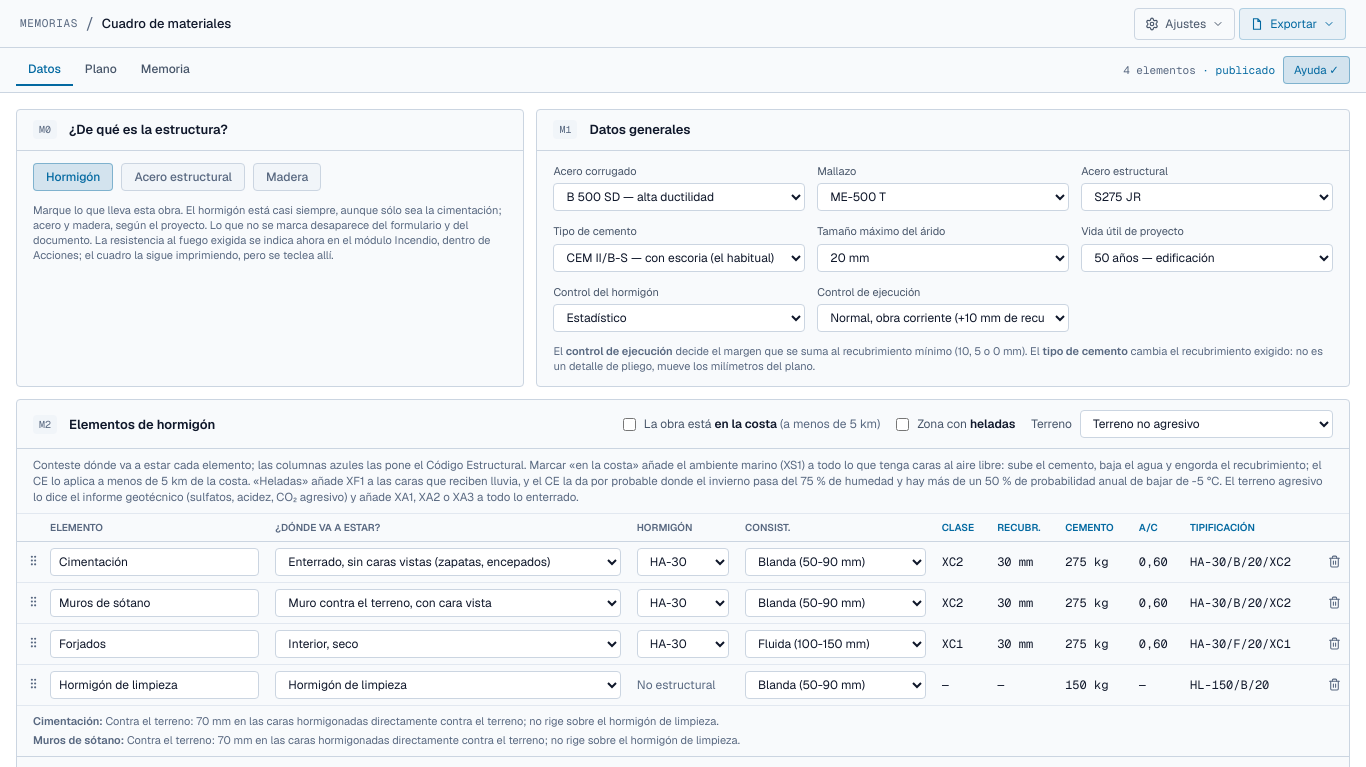
cambiar la respuesta mueve los derivados › pasar los forjados al exterior sube la clase, el cemento y el recubrimiento
This screenshot has width=1366, height=767.
Select "Exterior, a la lluvia" in the dropdown named "Dónde va a estar" in the row of "HA-30/F/20/XC1": [448, 644] box [275, 630, 621, 658]
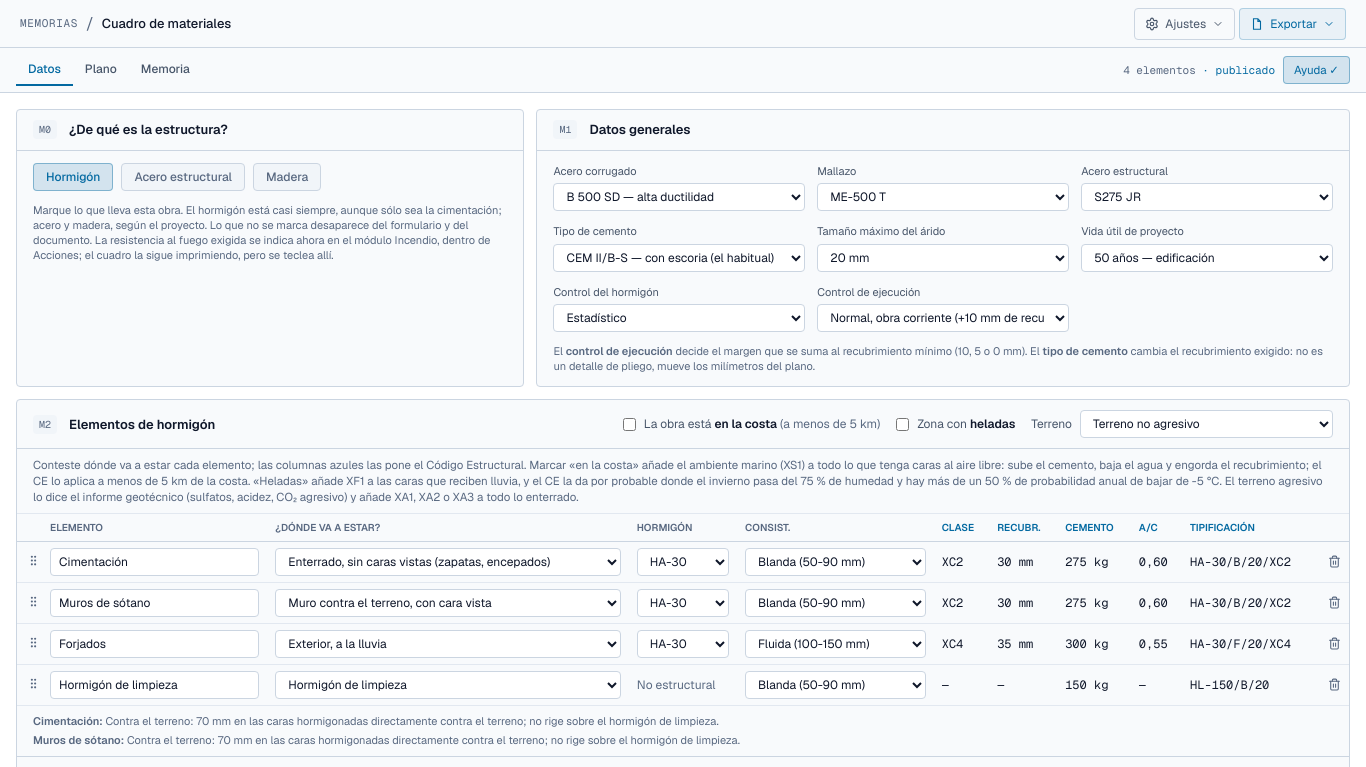
Now the text "XC4" is shown, box [934, 623, 989, 664]
Now the text "300 kg" is shown, box [1057, 623, 1131, 664]
Now the text "0,55" is shown, box [1131, 623, 1182, 664]
